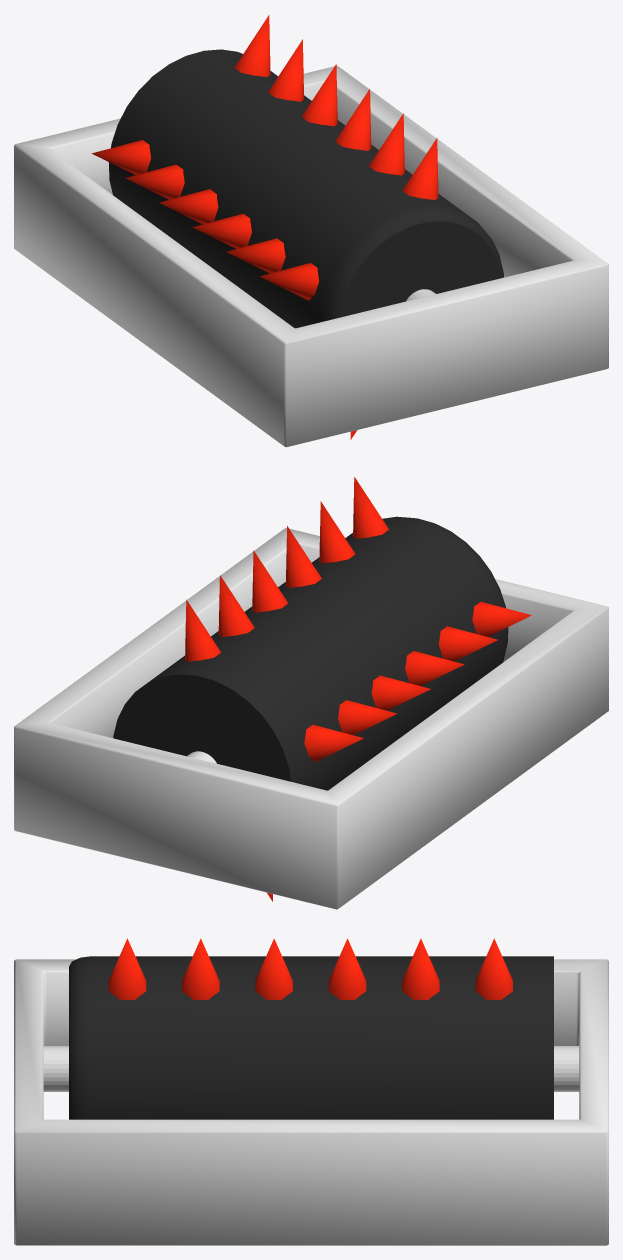
3 views of the same model, one above another, from view 1: azimuth 30°, elevation 25°; view 2: azimuth 150°, elevation 25°; view 3: azimuth 270°, elevation 25° (orthographic). The views are drawn at different scales.
Visible parts, largest first — view 1: SpiralBase, CylinderObstacle.001; view 2: SpiralBase, CylinderObstacle.001; view 3: SpiralBase, CylinderObstacle.001, CylinderObstacle.002.
Part boxes in pixels (x1,y1,x2,y2): SpiralBase: [14, 66, 608, 447]; CylinderObstacle.001: [91, 15, 503, 439]; SpiralBase: [14, 528, 608, 909]; CylinderObstacle.001: [113, 477, 531, 901]; SpiralBase: [14, 959, 608, 1245]; CylinderObstacle.001: [69, 938, 553, 1119]; CylinderObstacle.002: [43, 1046, 579, 1091].
Bounding box in the file's own units: 231 × 191 × 335.
